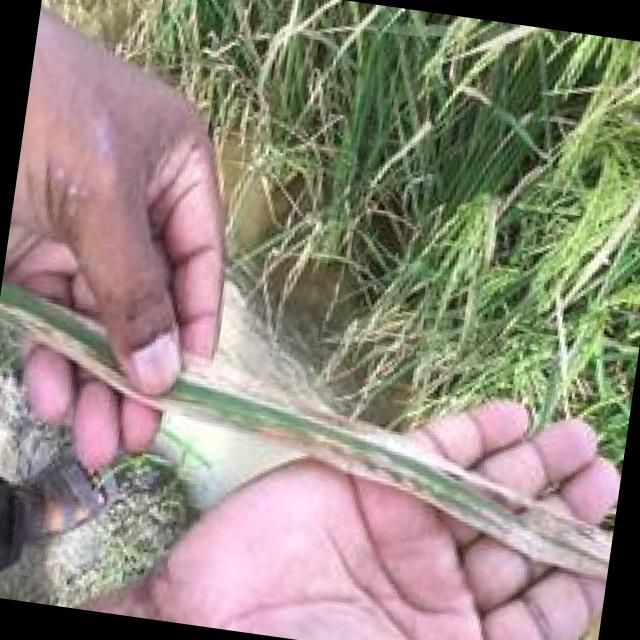Rice_Bacterial_Blight: (10, 290, 632, 580)
